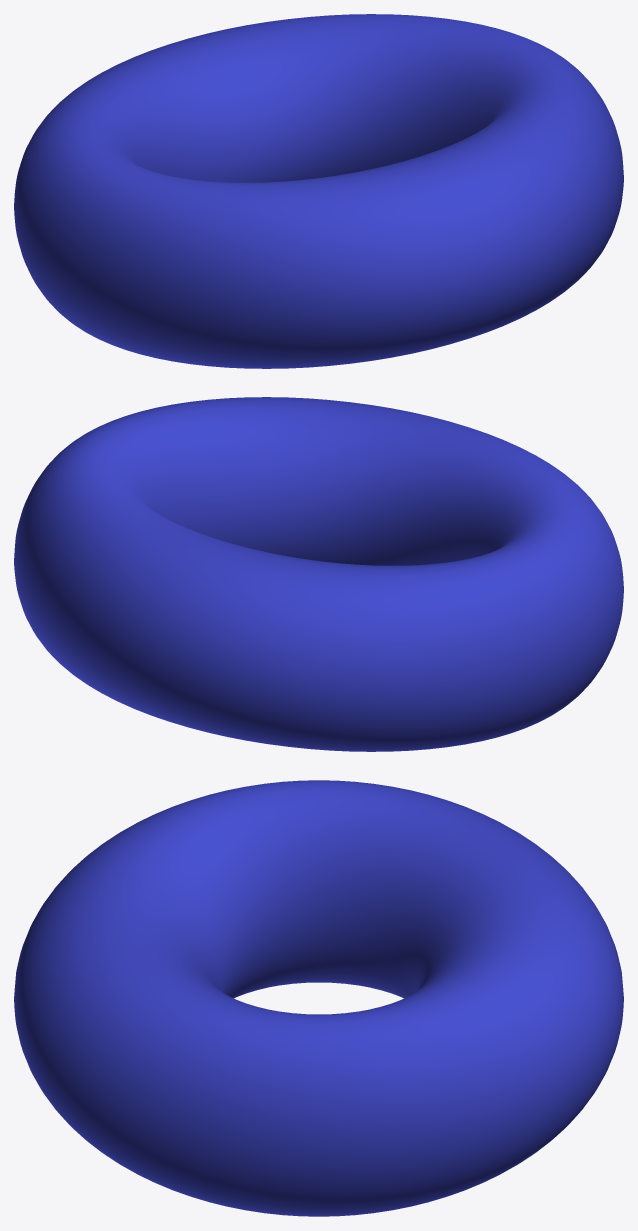
3 views of the same model, one above another, from view 1: azimuth 30°, elevation 25°; view 2: azimuth 150°, elevation 25°; view 3: azimuth 270°, elevation 25° (orthographic). The views are drawn at different scales.
Parts seen in each view (by area): view 1: root; view 2: root; view 3: root.
Part boxes in pixels (x1=…): root: x1=14, y1=14, x2=623, y2=368; root: x1=14, y1=397, x2=623, y2=751; root: x1=14, y1=780, x2=623, y2=1216.
Size of the model in its own units: 0.3524 by 0.1063 by 0.3057.
